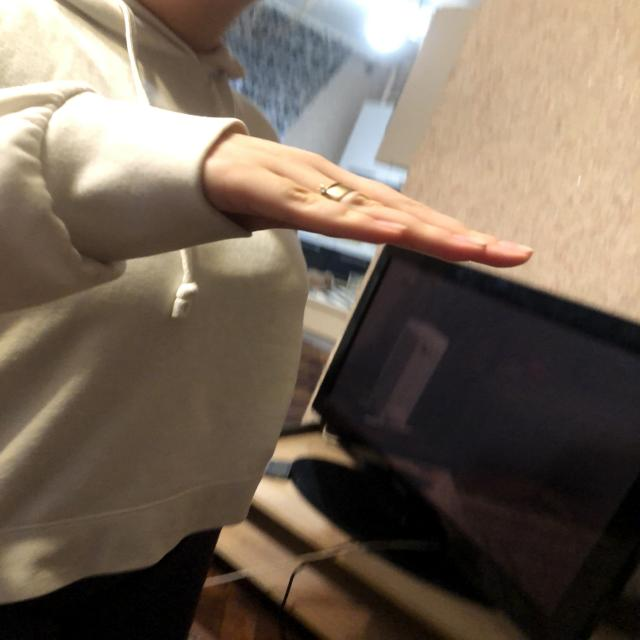paper: (221, 142, 534, 267)
